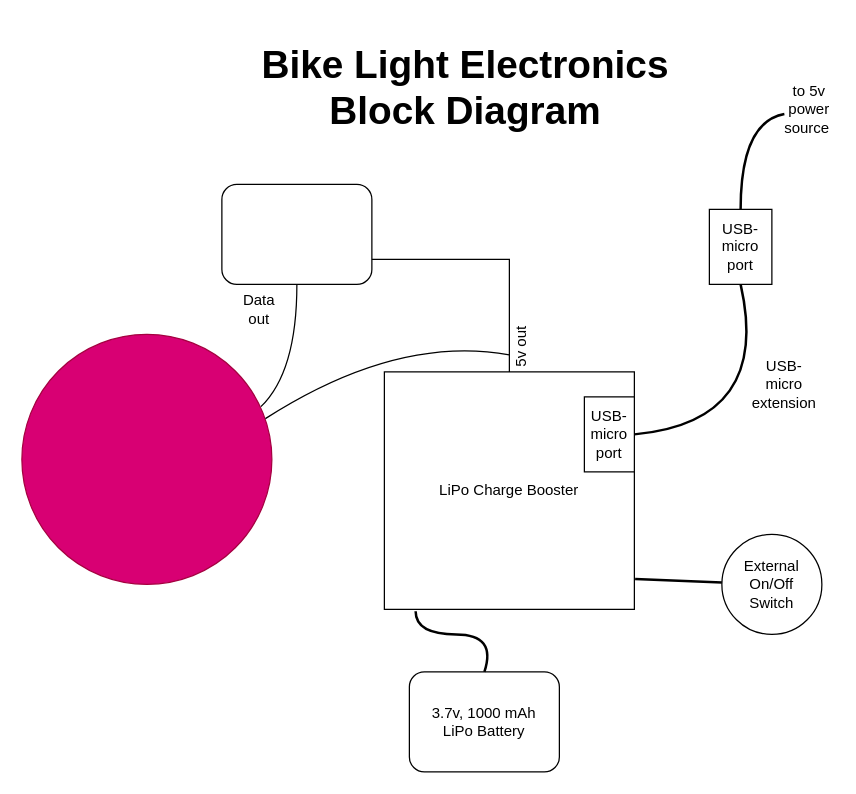
The diagram is 856 pixels wide and 794 high, and some of its shapes have lost their labels. The shapes that lost their labels are listed below. From the top down, each one's centre as x and y in pixels, then its label:
(x=296, y=233): PixelBlaze
(x=146, y=458): Fibonacci 64 RGB LED PCB
